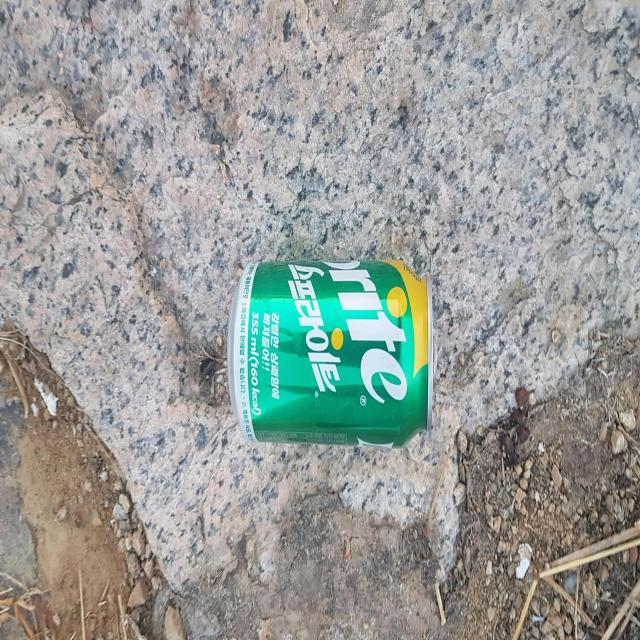can: (228, 259, 434, 448)
